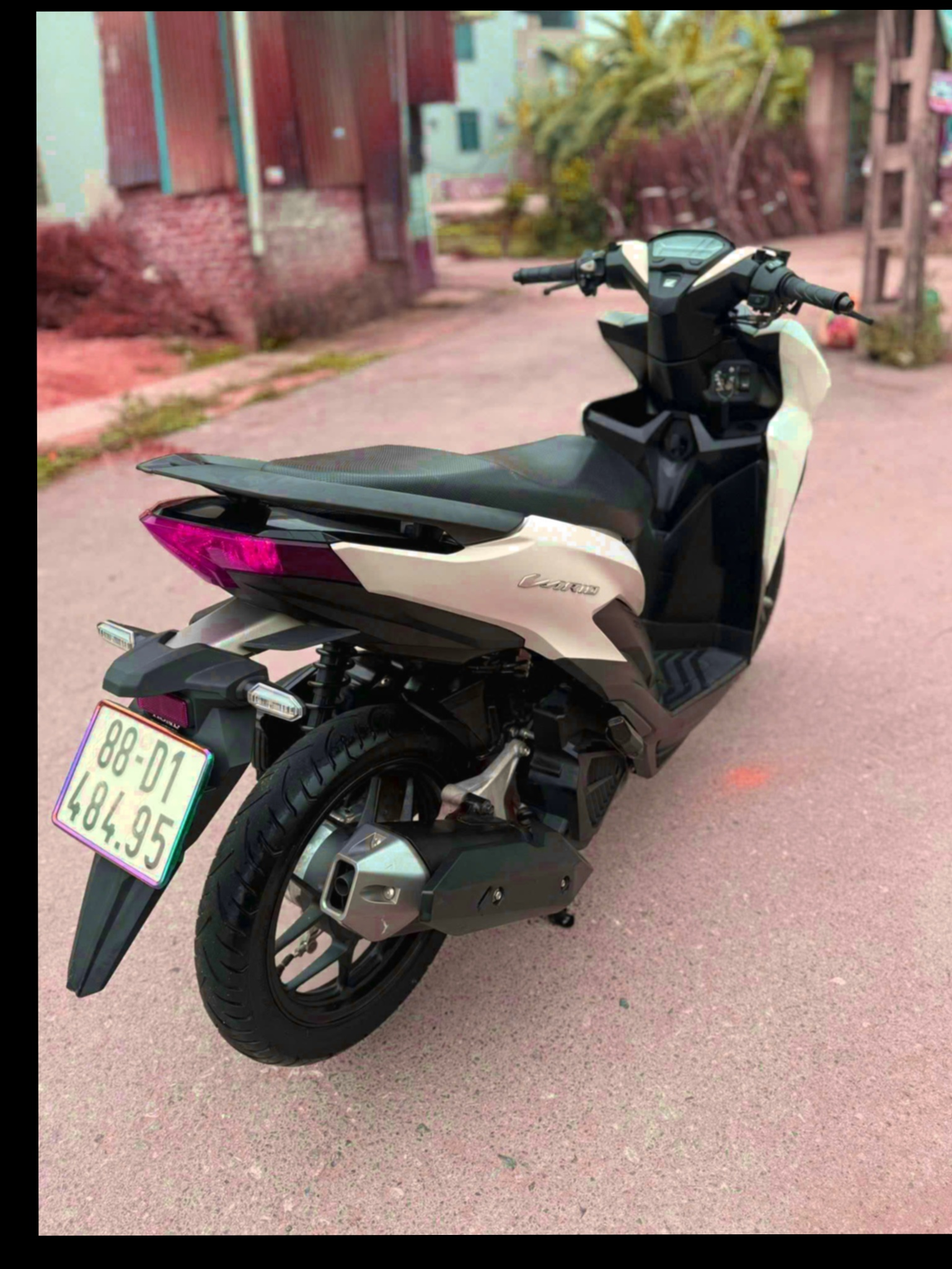Bien-so: (3, 691, 181, 908)
